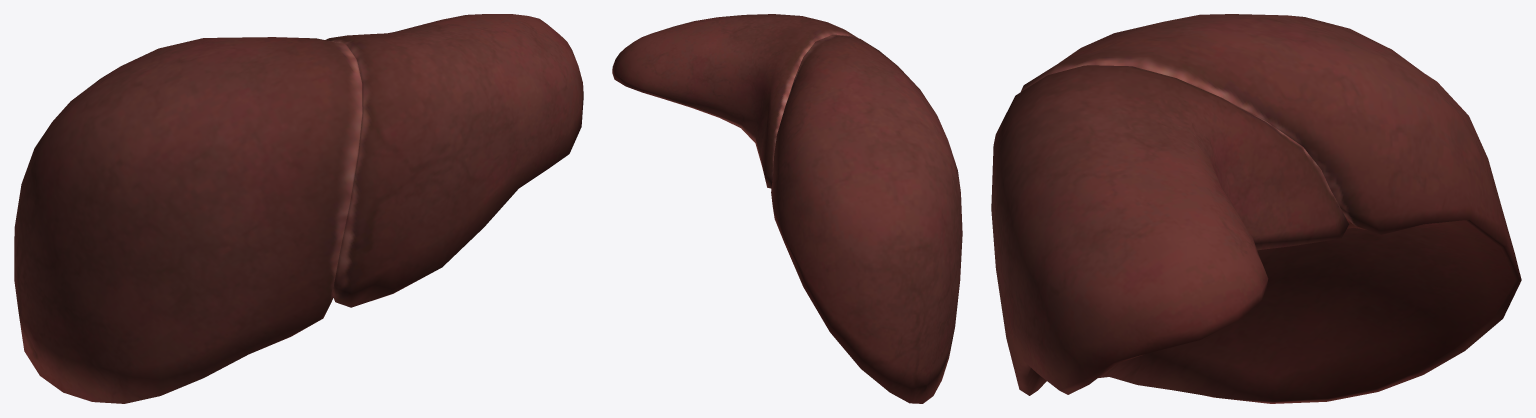
The model's file is liver_textured.fbx.
3 views of the same model, side by side, from view 1: azimuth 30°, elevation 25°; view 2: azimuth 150°, elevation 25°; view 3: azimuth 270°, elevation 25° (orthographic). The views are drawn at different scales.
Parts seen in each view (by area): view 1: polySurface2; view 2: polySurface2; view 3: polySurface2.
Part boxes in pixels (x1,y1,x2,y2): polySurface2: (14, 14, 583, 403); polySurface2: (612, 14, 962, 403); polySurface2: (991, 14, 1521, 403).
Size of the model in its own units: 5.37 by 3.82 by 3.76.
1 material, 1 textured.
